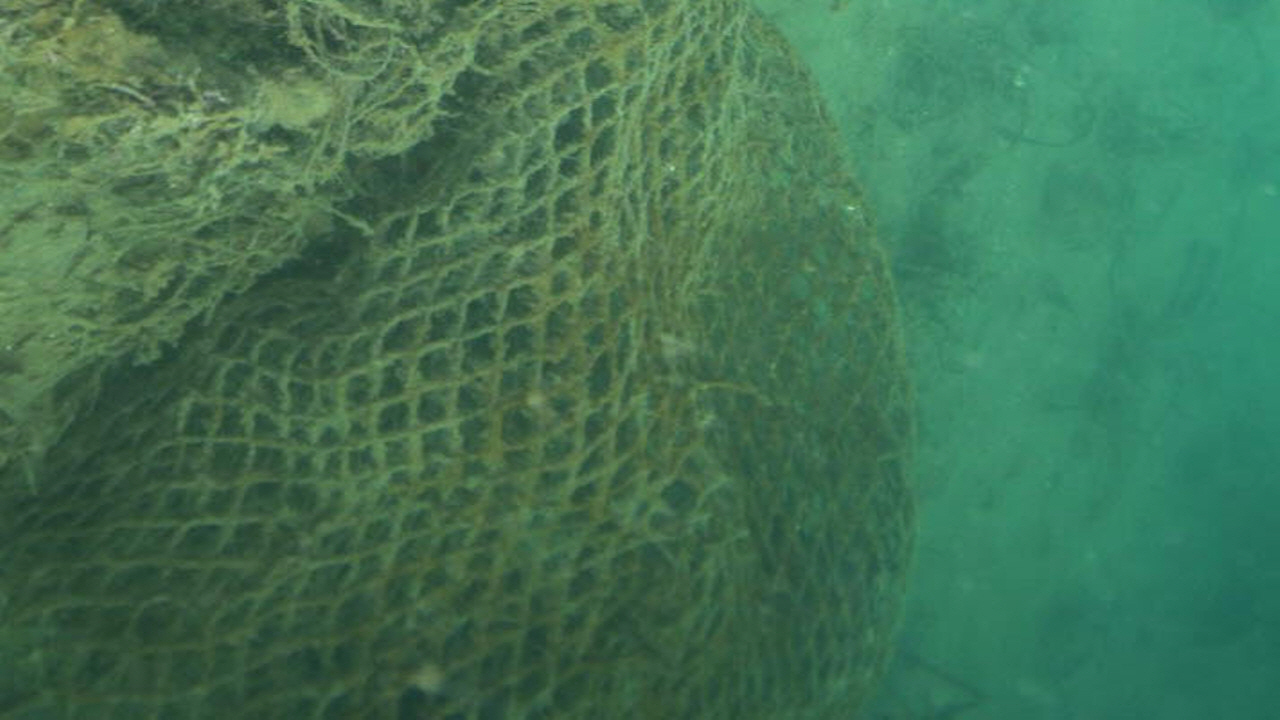fish net: (0, 0, 921, 719)
